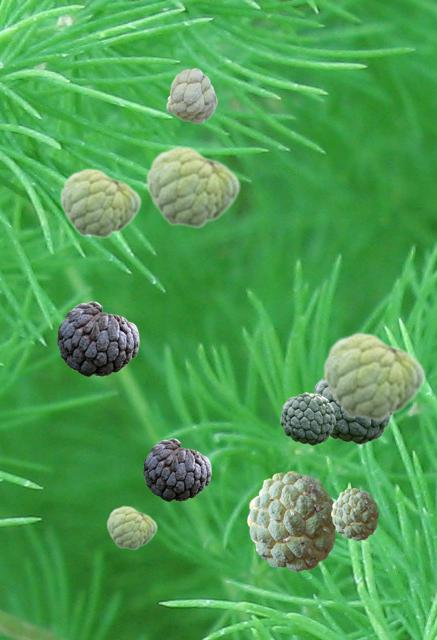atis: (322, 331, 424, 421), (247, 471, 336, 570), (145, 145, 239, 228), (57, 301, 138, 375), (59, 167, 140, 238), (314, 378, 391, 443), (143, 438, 210, 500), (280, 392, 334, 444), (166, 68, 216, 122), (331, 488, 377, 539), (106, 505, 156, 549)
